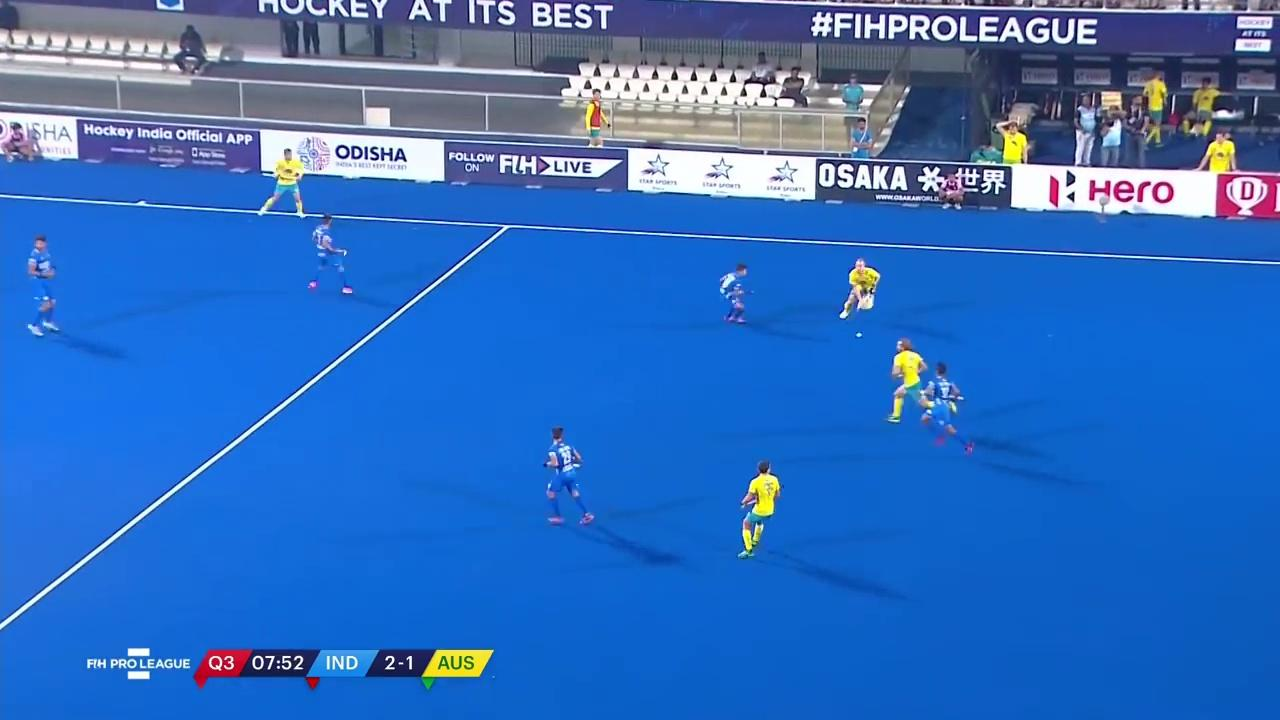ball: (852, 328, 866, 342)
